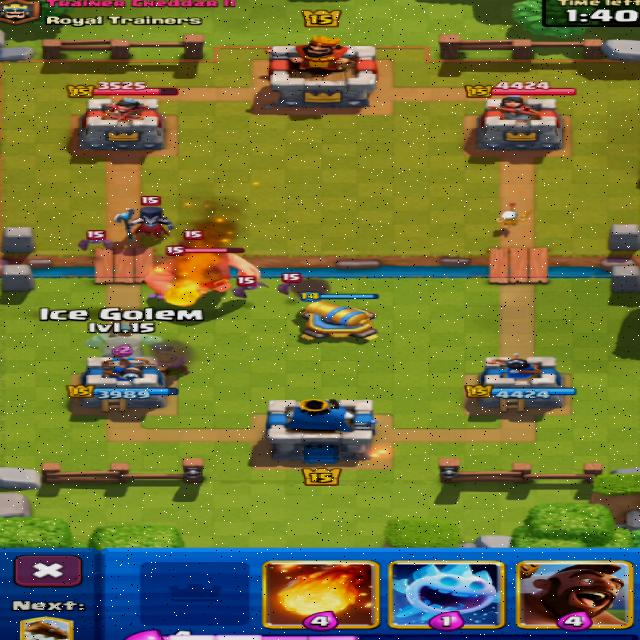Enemy-Bat: (233, 277, 266, 298), (78, 231, 112, 250), (277, 275, 298, 294)
Enemy-Giant: (144, 252, 259, 306)
Enemy-KingTower: (268, 35, 376, 106)
Enemy-NightWitch: (114, 206, 173, 240)
Enemy-PrincessTower: (475, 95, 562, 156), (78, 98, 164, 153)
Player-Cannon: (300, 301, 375, 340)
Player-KingTower: (266, 399, 375, 462)
Player-Musketeer: (157, 351, 188, 376)
Player-PrincessTower: (67, 356, 177, 412), (467, 354, 574, 411)
Player-Skeleton: (496, 210, 528, 228)
